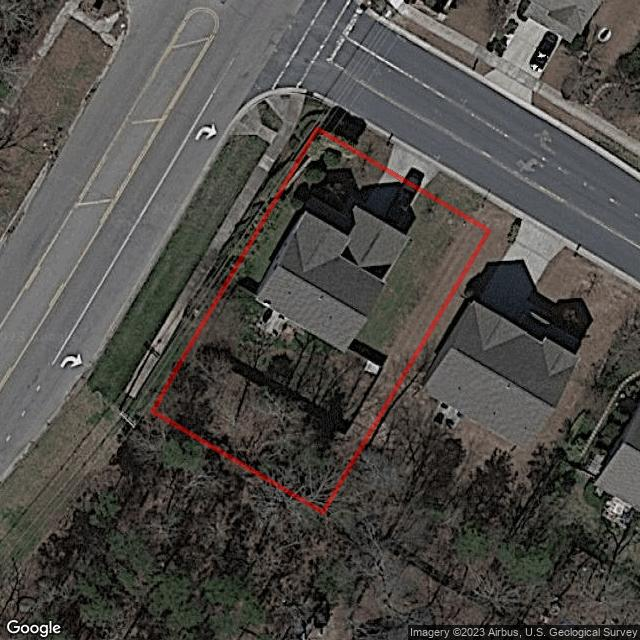Driveway: (359, 174, 416, 234)
Extra Driveway: (388, 140, 439, 187)
Extra Lawn: (319, 104, 397, 166), (426, 170, 505, 227)
House: (255, 192, 410, 355)
